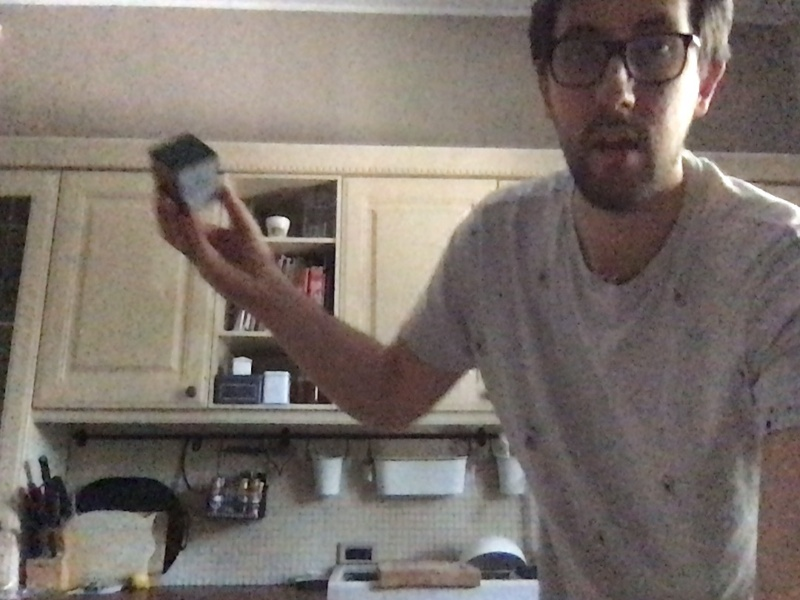rubik: (150, 132, 222, 215)
